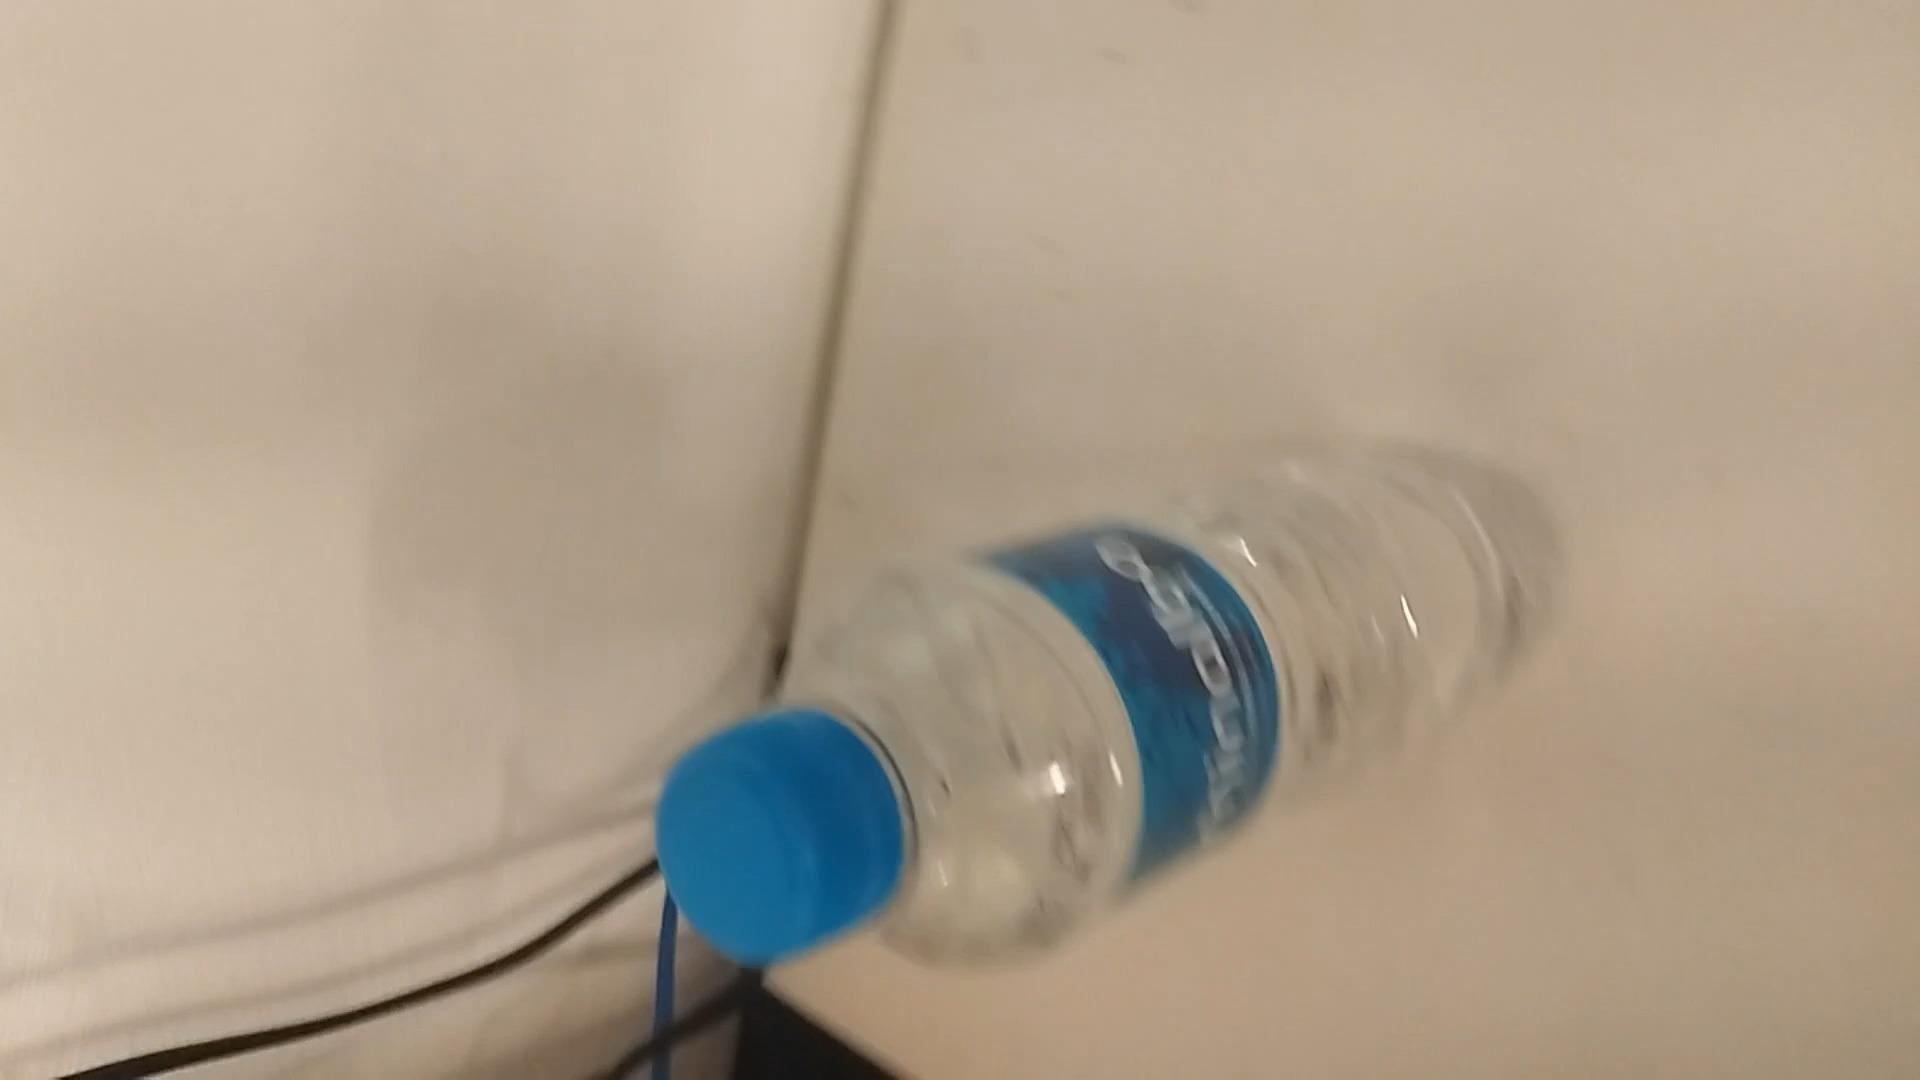agua: (663, 440, 1549, 968)
